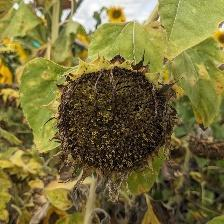sunflower: (45, 51, 183, 205)
